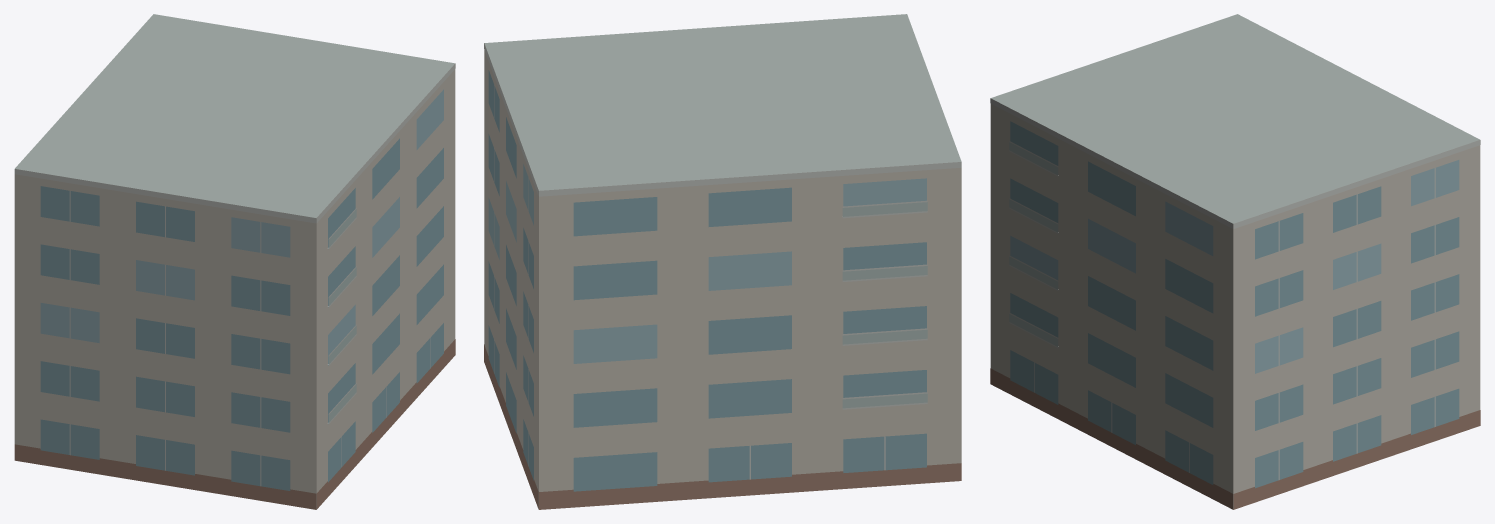
File: survey-upis-32779648.glb
3 views of the same model, side by side, from view 1: azimuth 30°, elevation 25°; view 2: azimuth 150°, elevation 25°; view 3: azimuth 270°, elevation 25° (orthographic). The views are drawn at different scales.
Visible parts, largest first — view 1: survey-upis-32779648.tmp; view 2: survey-upis-32779648.tmp; view 3: survey-upis-32779648.tmp.
Part boxes in pixels (x1,y1,x2,y2): survey-upis-32779648.tmp: (14,14,455,509); survey-upis-32779648.tmp: (484,14,961,509); survey-upis-32779648.tmp: (990,14,1480,509).
Bounding box in the file's own units: 20.7 × 13.15 × 20.42.
